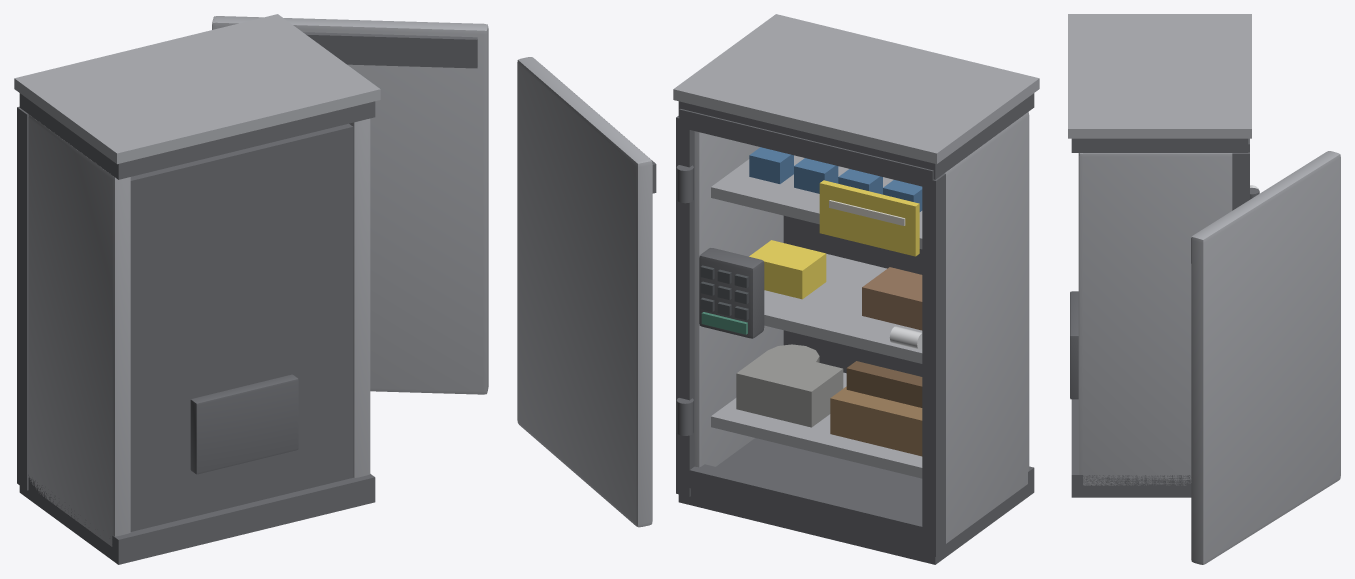
File: DD_cupboard.fbx
3 views of the same model, side by side, from view 1: azimuth 30°, elevation 25°; view 2: azimuth 150°, elevation 25°; view 3: azimuth 270°, elevation 25° (orthographic). The views are drawn at different scales.
Visible parts, largest first — view 1: DD_cupboard; view 2: DD_cupboard; view 3: DD_cupboard.
Part boxes in pixels (x1,y1,x2,y2): DD_cupboard: (14, 14, 488, 564); DD_cupboard: (517, 14, 1039, 564); DD_cupboard: (1068, 14, 1340, 564).
Size of the model in its own units: 1.31 by 1.16 by 0.7716.
